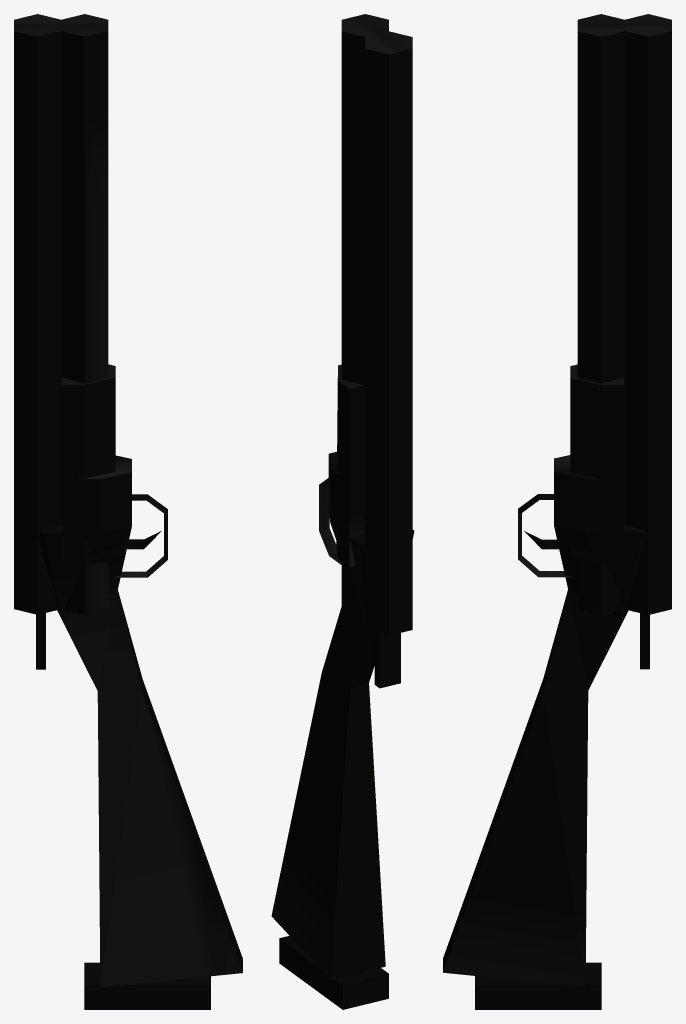
File: Marlin1895GG__Mount_ScopeBase__RecoilPad_Rubber.fbx
3 views of the same model, side by side, from view 1: azimuth 90°, elevation 25°; view 2: azimuth 210°, elevation 25°; view 3: azimuth 270°, elevation 25° (orthographic).
Visible parts, largest first — view 1: asset_Marlin1895GG.001; view 2: asset_Marlin1895GG.001; view 3: asset_Marlin1895GG.001.
Part boxes in pixels (x1,y1,x2,y2): asset_Marlin1895GG.001: [14, 14, 242, 1009]; asset_Marlin1895GG.001: [271, 14, 414, 1009]; asset_Marlin1895GG.001: [443, 14, 671, 1009].
Size of the model in its own units: 0.0348 by 0.585 by 0.1246.
